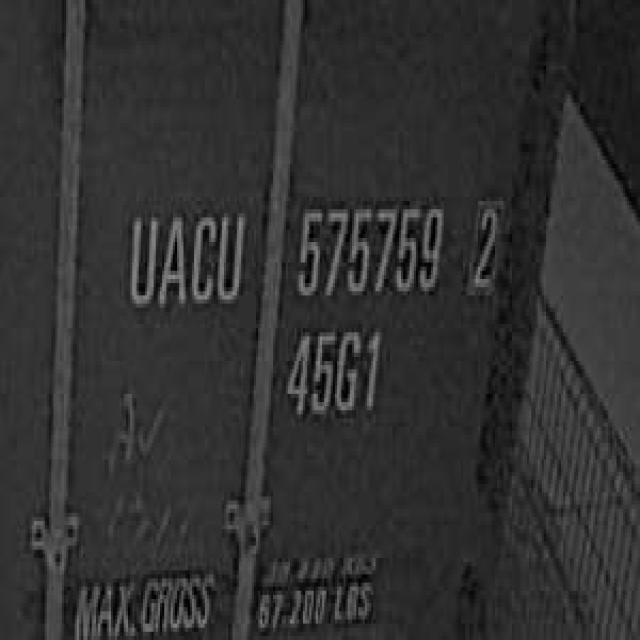dv: (465, 188, 506, 300)
owner: (121, 193, 248, 320)
serial: (288, 188, 446, 308)
size: (279, 316, 384, 427)
